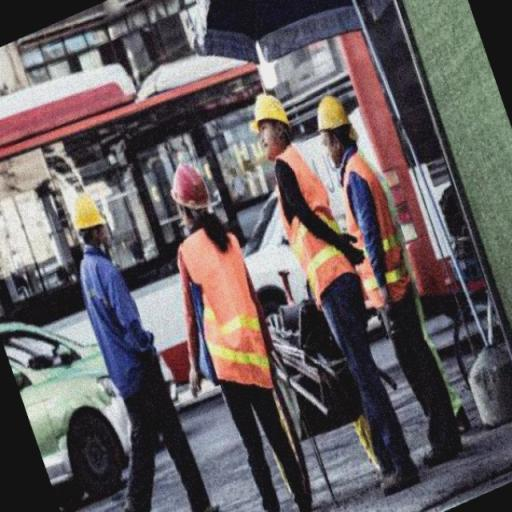Person: (239, 84, 434, 500), (296, 77, 490, 467), (152, 155, 344, 509), (48, 183, 246, 511)
boots: (376, 452, 422, 498)
gloves: (336, 229, 369, 270)
helmet: (166, 162, 212, 212), (246, 89, 292, 129), (70, 192, 112, 232), (312, 93, 352, 135)
vest: (178, 232, 276, 387), (267, 150, 355, 304), (72, 244, 160, 394), (336, 159, 412, 309)
